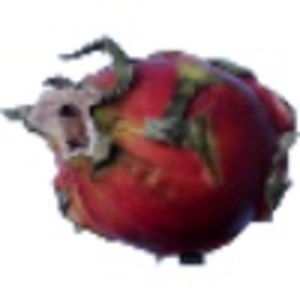pitaia: (1, 34, 300, 268)
